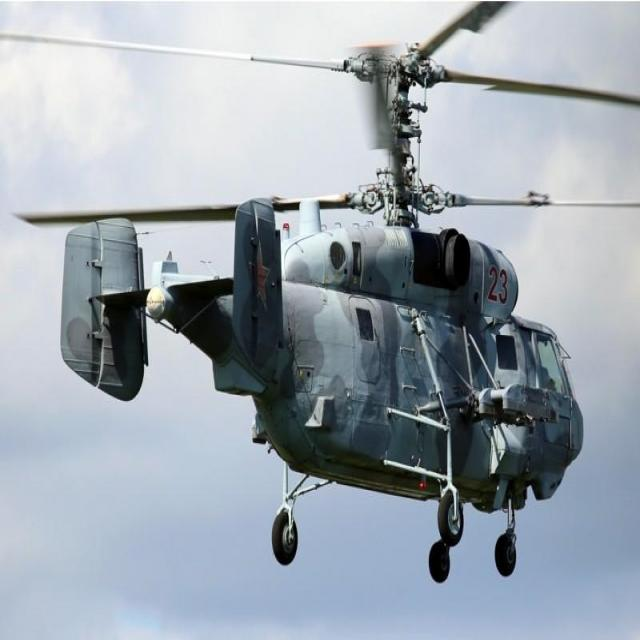MIL_HELO: (17, 0, 640, 597)
